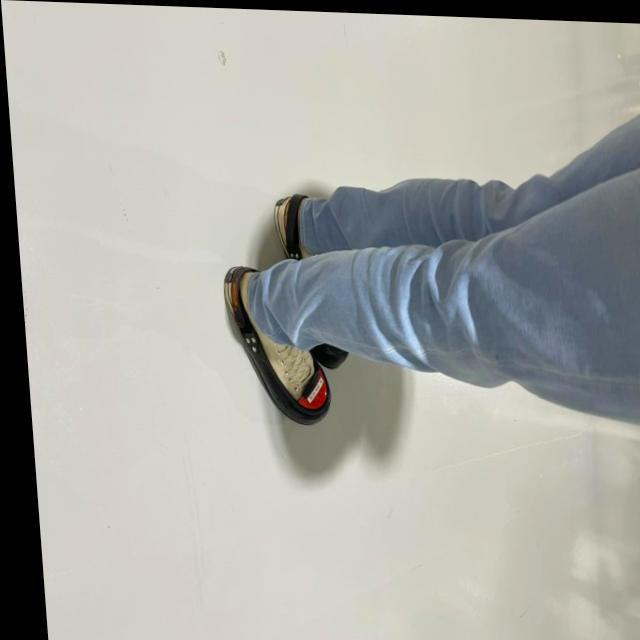shoes: (222, 258, 336, 428), (268, 188, 326, 262)
